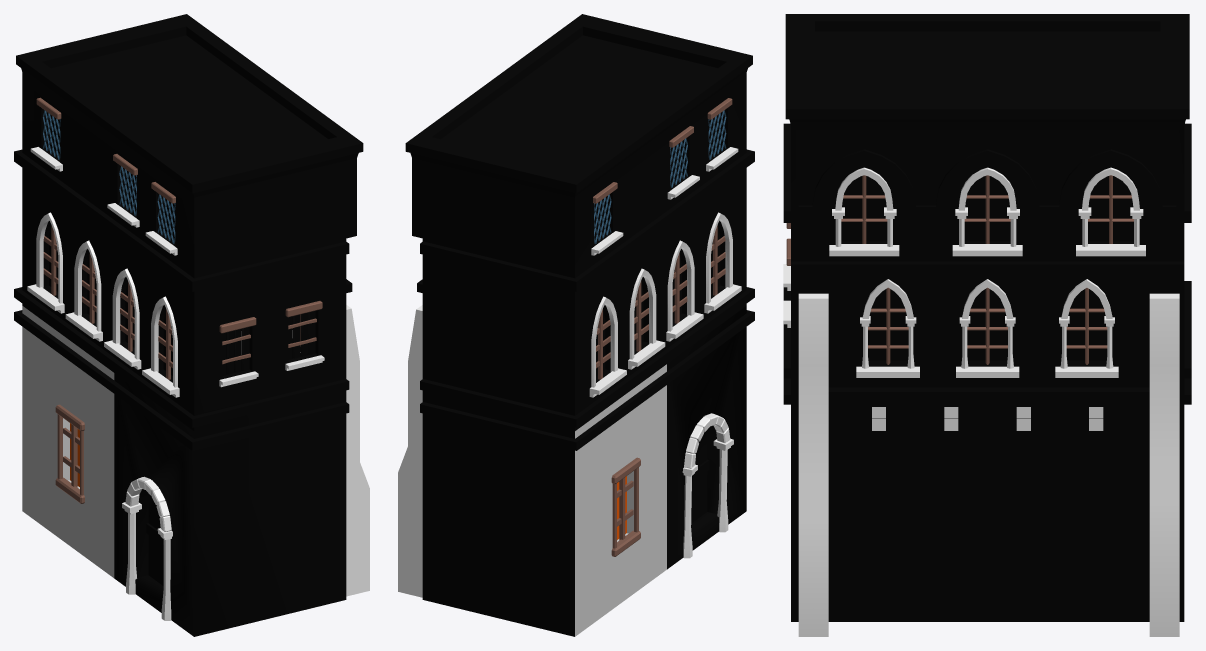
File: civilian_house_18_a.FBX
The picture shows the model from 3 angles, left to right: view 1: azimuth 30°, elevation 25°; view 2: azimuth 150°, elevation 25°; view 3: azimuth 270°, elevation 25°; orthographic projection. The views are drawn at different scales.
Parts seen in each view (by area): view 1: civilian_house_18 _a_LOD0; view 2: civilian_house_18 _a_LOD0; view 3: civilian_house_18 _a_LOD0.
Part boxes in pixels (x1,y1,x2,y2): civilian_house_18 _a_LOD0: (14, 14, 369, 636); civilian_house_18 _a_LOD0: (398, 14, 754, 636); civilian_house_18 _a_LOD0: (783, 14, 1191, 636).
Size of what is drawn, in the model's own units: 634 by 1460 by 1038.
